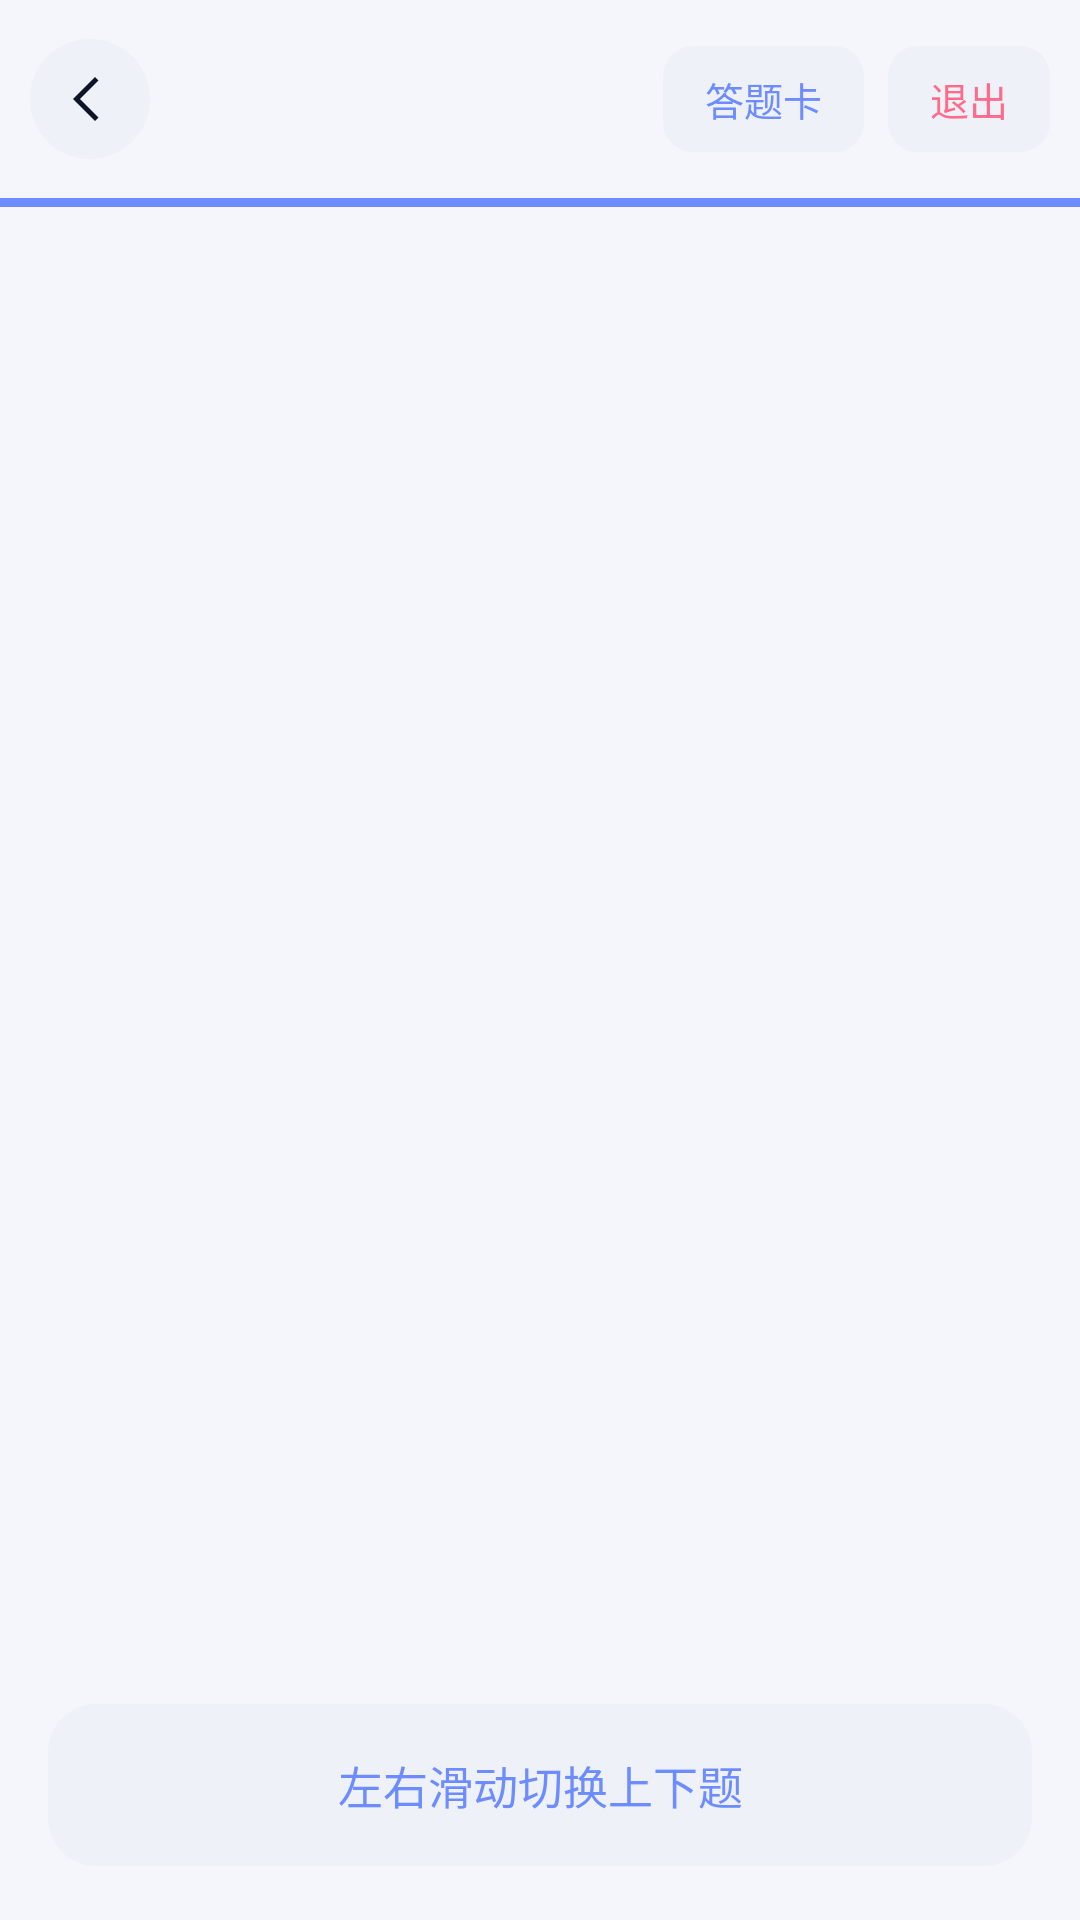

Icon bounding boxes for this 1080x1920 phone screenshot, format (x1,y1,x2,y2):
返回: (73,77,99,121)
